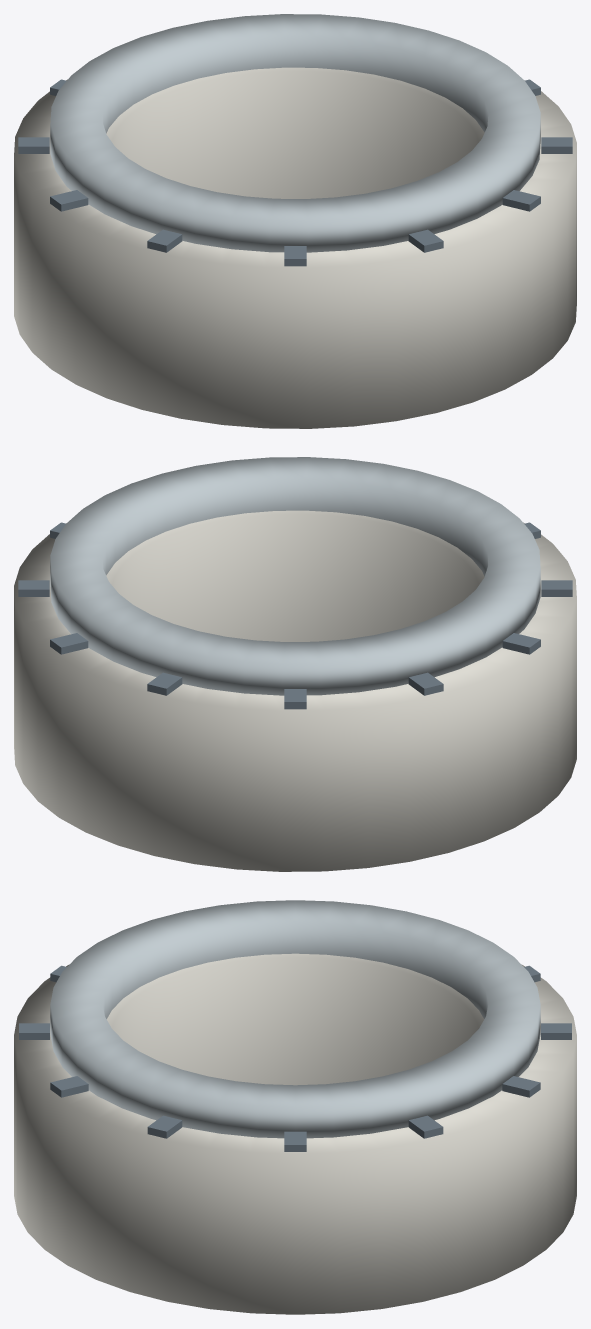
File: iss_harmony_dock.pma_forward.ida_forward.glb
3 renders of one model, top to bottom at view 1: azimuth 30°, elevation 25°; view 2: azimuth 150°, elevation 25°; view 3: azimuth 270°, elevation 25°, orthographic.
Visible parts, largest first — view 1: iss_harmony_dock.pma_forward.ida_forward.mesh_Warm_white_ena, iss_harmony_dock.pma_forward.ida_forward.mesh_Satin_aluminum, iss_harmony_dock.pma_forward.ida_forward.mesh_Machined_steel; view 2: iss_harmony_dock.pma_forward.ida_forward.mesh_Warm_white_ena, iss_harmony_dock.pma_forward.ida_forward.mesh_Satin_aluminum, iss_harmony_dock.pma_forward.ida_forward.mesh_Machined_steel; view 3: iss_harmony_dock.pma_forward.ida_forward.mesh_Warm_white_ena, iss_harmony_dock.pma_forward.ida_forward.mesh_Satin_aluminum, iss_harmony_dock.pma_forward.ida_forward.mesh_Machined_steel.
Part boxes in pixels (x1=…): iss_harmony_dock.pma_forward.ida_forward.mesh_Warm_white_ena: x1=14, y1=67, x2=576, y2=428; iss_harmony_dock.pma_forward.ida_forward.mesh_Satin_aluminum: x1=50, y1=14, x2=540, y2=252; iss_harmony_dock.pma_forward.ida_forward.mesh_Machined_steel: x1=18, y1=79, x2=572, y2=266; iss_harmony_dock.pma_forward.ida_forward.mesh_Warm_white_ena: x1=14, y1=510, x2=576, y2=871; iss_harmony_dock.pma_forward.ida_forward.mesh_Satin_aluminum: x1=50, y1=457, x2=540, y2=695; iss_harmony_dock.pma_forward.ida_forward.mesh_Machined_steel: x1=18, y1=522, x2=572, y2=709; iss_harmony_dock.pma_forward.ida_forward.mesh_Warm_white_ena: x1=14, y1=953, x2=576, y2=1314; iss_harmony_dock.pma_forward.ida_forward.mesh_Satin_aluminum: x1=50, y1=900, x2=540, y2=1138; iss_harmony_dock.pma_forward.ida_forward.mesh_Machined_steel: x1=19, y1=965, x2=571, y2=1151.
Bounding box in the file's own units: 1.62 × 0.61 × 1.62.
